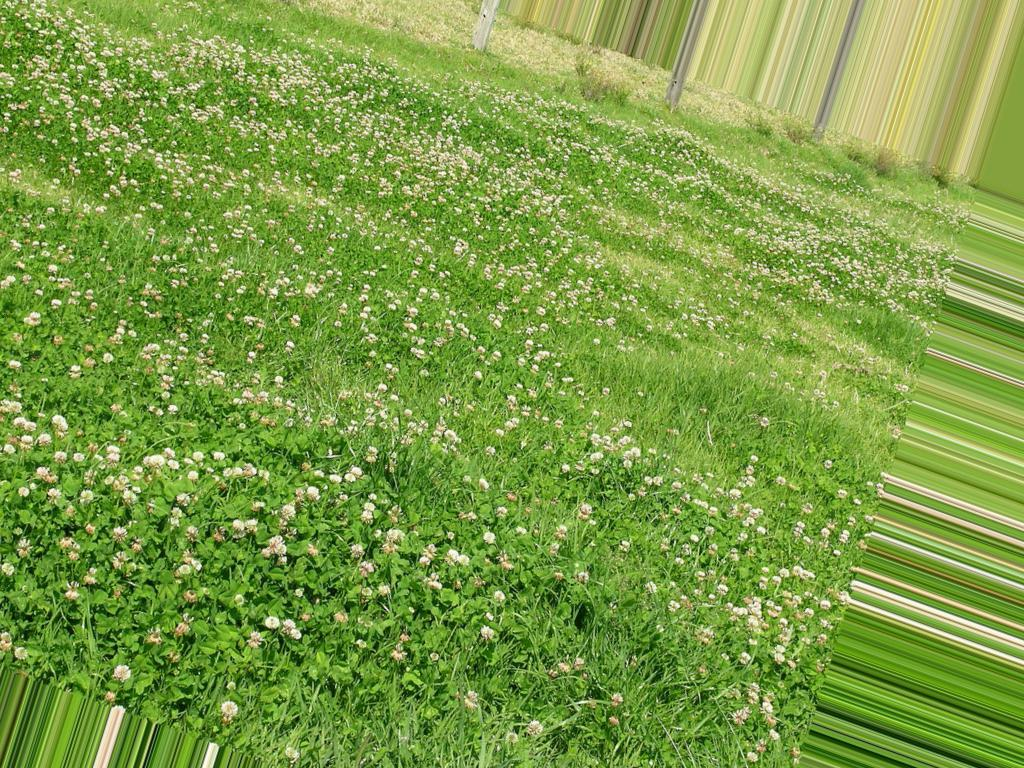patch: (601, 403, 739, 536), (93, 323, 202, 464), (279, 372, 390, 496), (721, 323, 836, 390), (605, 203, 688, 281)
